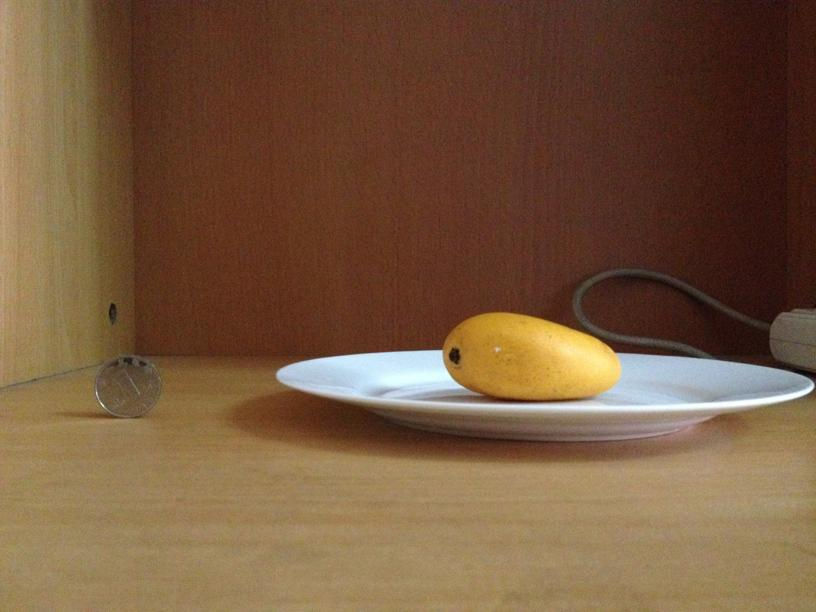coin: (95, 353, 162, 418)
mango: (439, 308, 620, 400)
